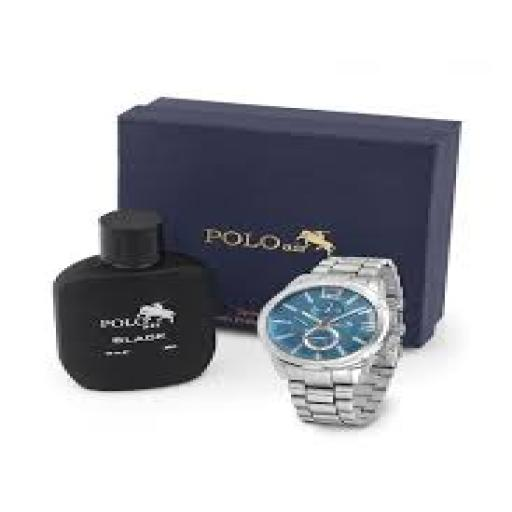KolSaati: (240, 244, 437, 441)
